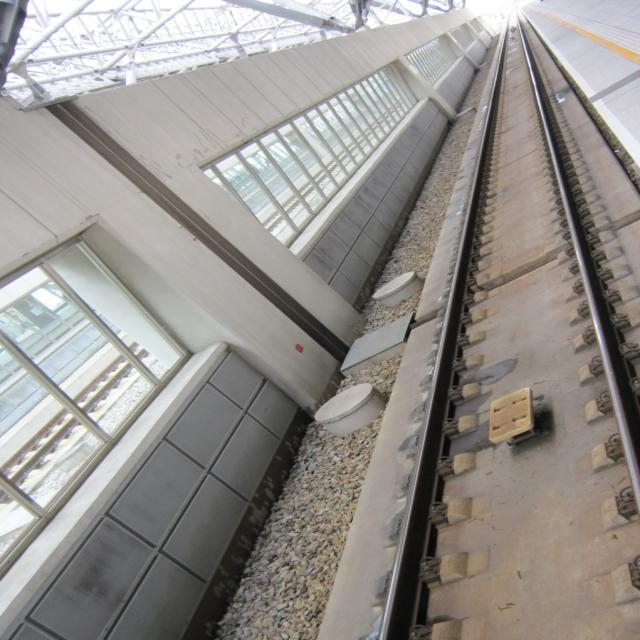rail: (327, 7, 640, 640)
